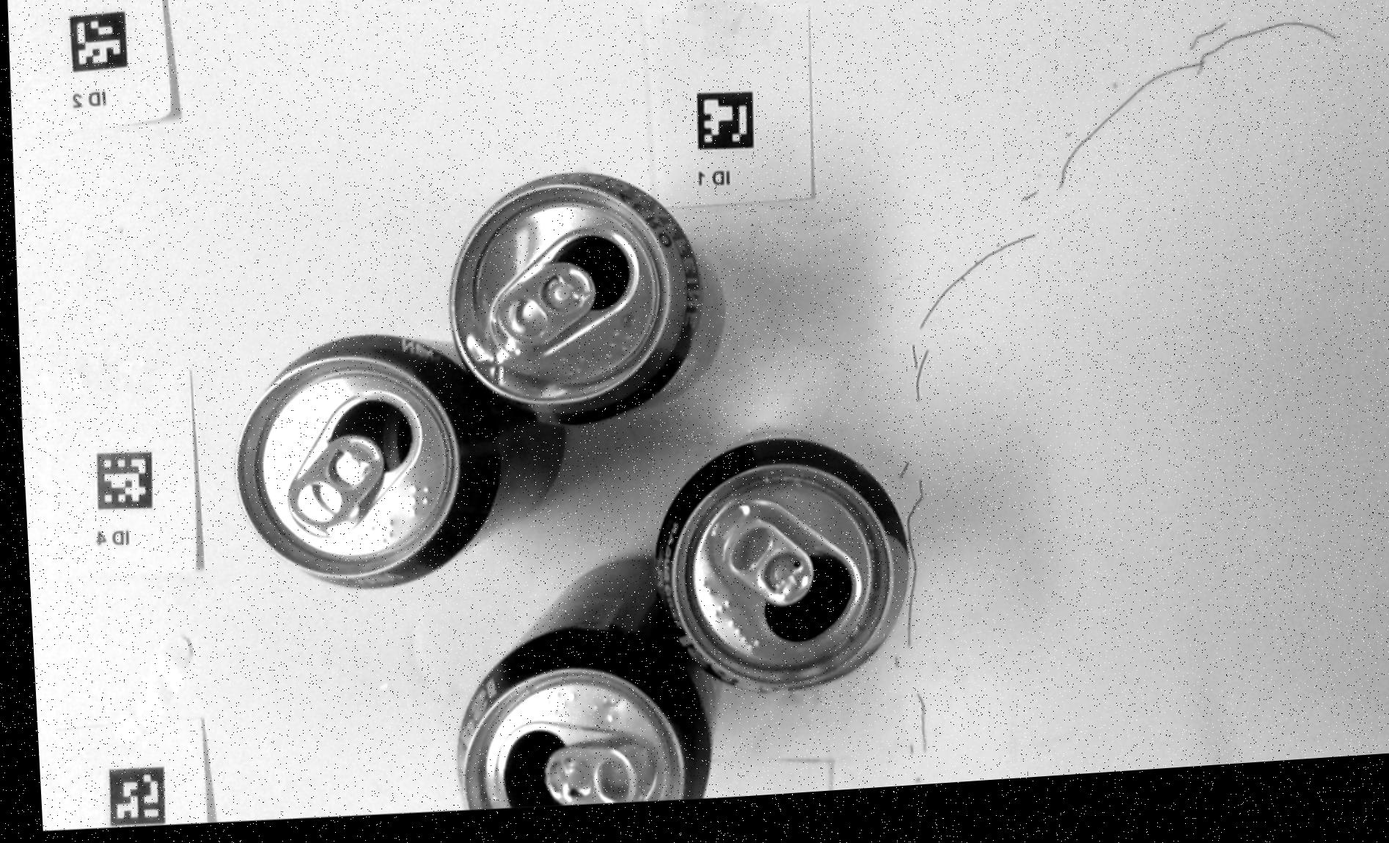can_coke_decaf: (450, 172, 719, 423)
can_coke_zero: (238, 334, 564, 588)
can_pepsi: (458, 558, 711, 808)
can_pepsi_zero: (657, 437, 909, 689)
